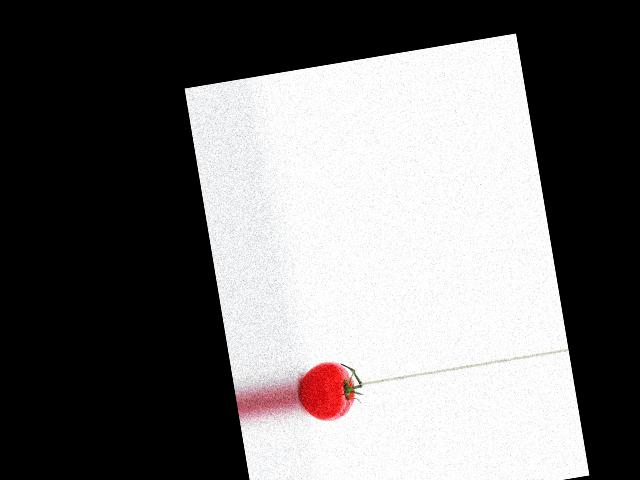tomato: (295, 359, 359, 426)
